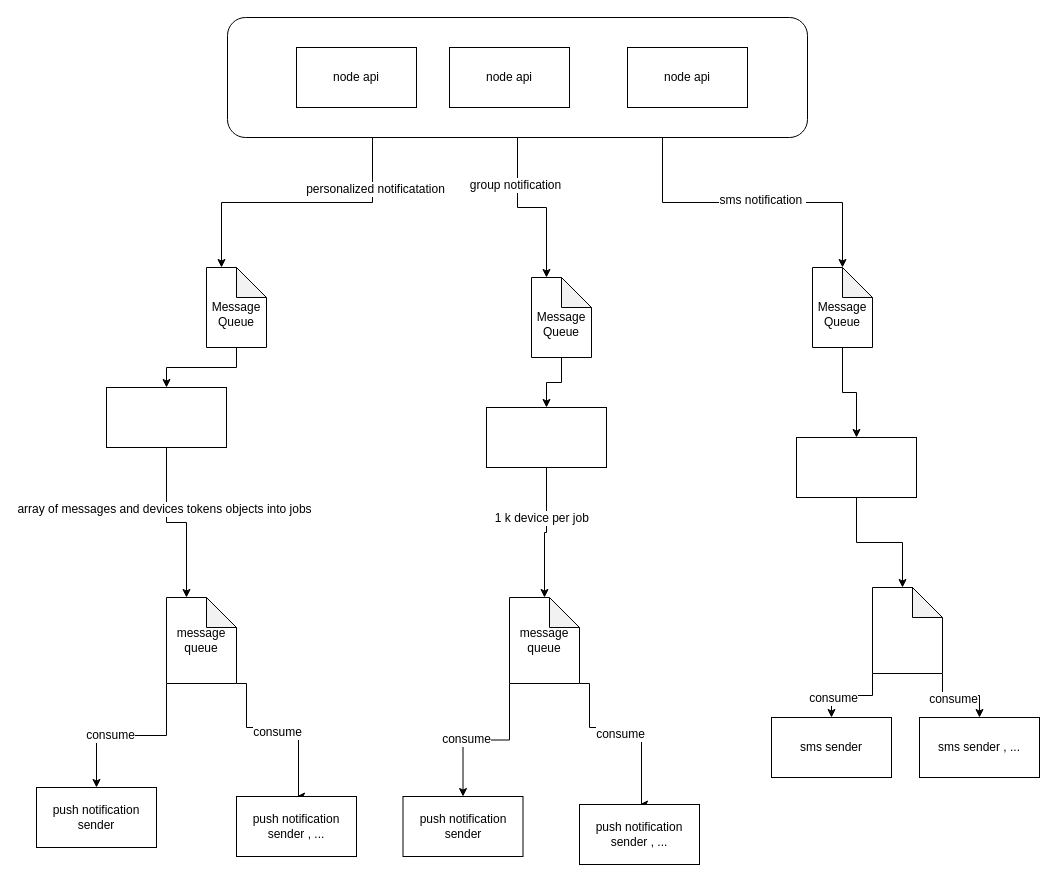
Image size: 1057x882. Some labels were removed from this diagram. Here are the shapes that lost their labels. From the top down, the centre of each, then its label:
At pixel 166 417: "Notification worker ( work on message customization per user, ... )".
At pixel 546 437: "notification sender ... (handle big bulk of notification)".
At pixel 856 467: "sms worker, ...".
At pixel 907 630: "Message Queue ( rate limited )".
